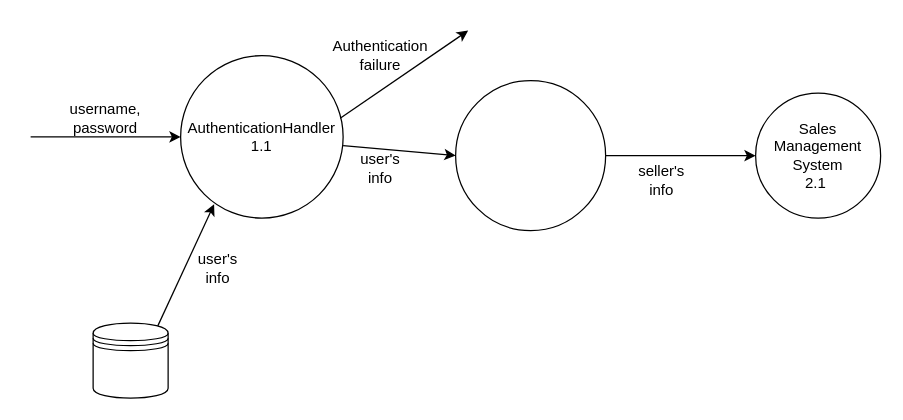
The diagram is 903 pixels wide and 420 high, and some of its shapes have lost their labels. The centre of each missing label's shape, as x and y in pixels:
"Role checker" belongs at [530,155].
"user" belongs at [130,360].
